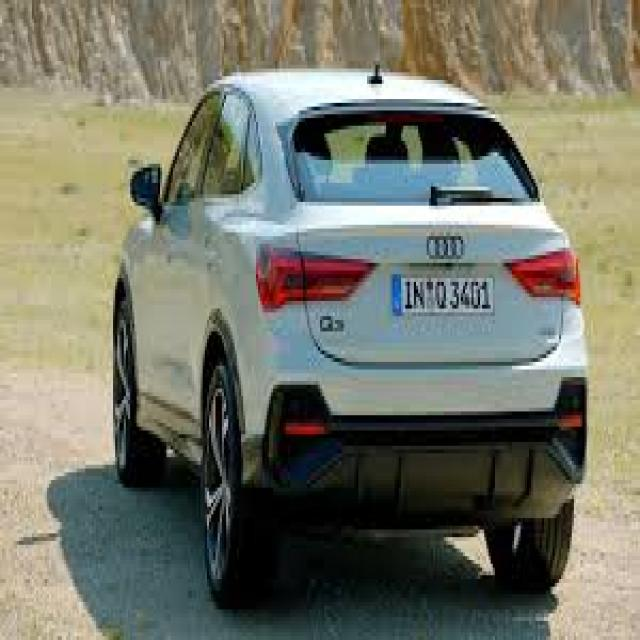Car: (112, 71, 588, 604)
